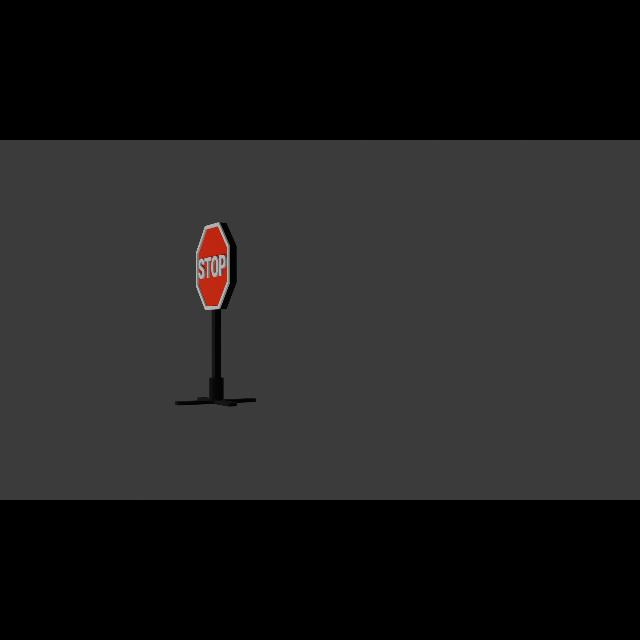sign_stop: (195, 222, 236, 313)
